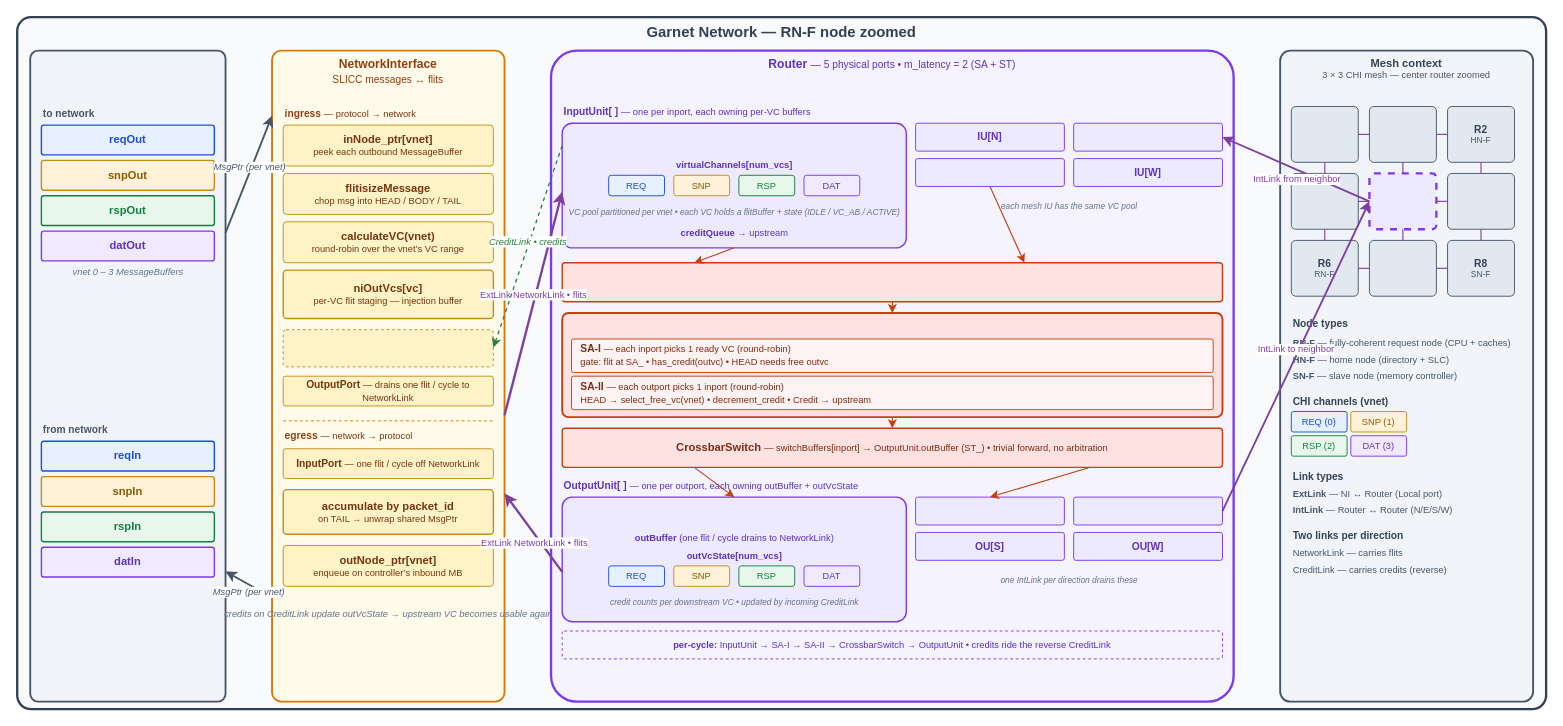
The diagram is 1563 pixels wide and 726 high, and some of its shapes have lost their labels. The shapes that lost their labels are listed below. From the top down, each one's box as (x1, y1, x2, y2) in pixels, then its label:
(1073, 122, 1222, 151): IU[E]
(1290, 106, 1358, 162): R0 RN-F
(1368, 106, 1436, 162): R1 RN-F
(561, 122, 907, 248): IU[Local] flits from NI
(915, 158, 1064, 186): IU[S]
(1290, 173, 1358, 229): R3 RN-F
(1368, 172, 1437, 230): R4 RN-F (zoom)
(1447, 173, 1515, 229): R5 HN-F
(561, 262, 1223, 302): RoutingUnit — outportCompute(route, inport, dirn) • TABLE_ / XY_ / CUSTOM_
(1368, 239, 1436, 296): R7 HN-F
(282, 329, 493, 367): outVcState[vc] credit mirror of downstream router VCs
(561, 312, 1223, 418): SwitchAllocator — runs every router cycle
(29, 49, 226, 702): RN-F controller CHI-cache — machine(Cache)
(915, 496, 1064, 525): OU[N]
(1073, 496, 1222, 525): OU[E]
(561, 496, 907, 622): OU[Local] flits to NI
